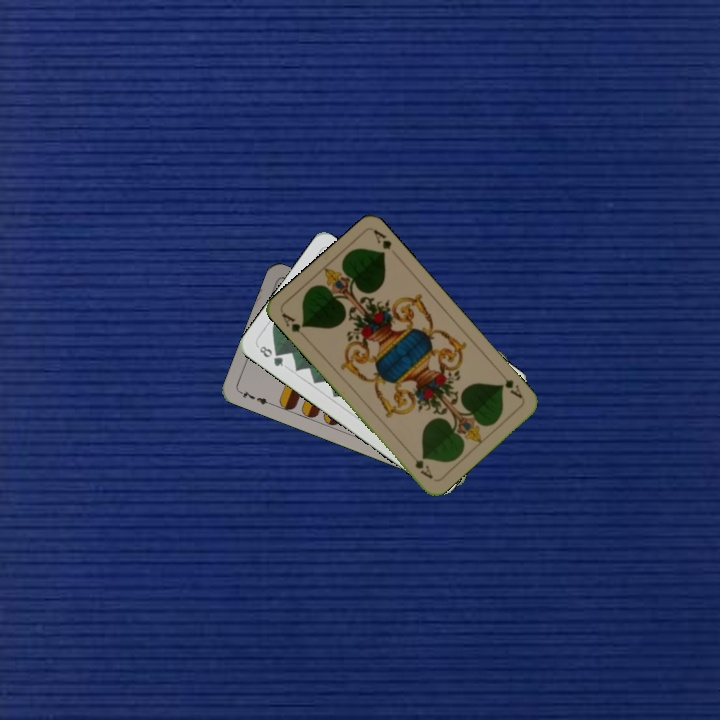E7: (236, 386, 275, 408)
G8: (255, 342, 286, 369)
GA: (278, 309, 310, 342), (496, 375, 526, 402)
